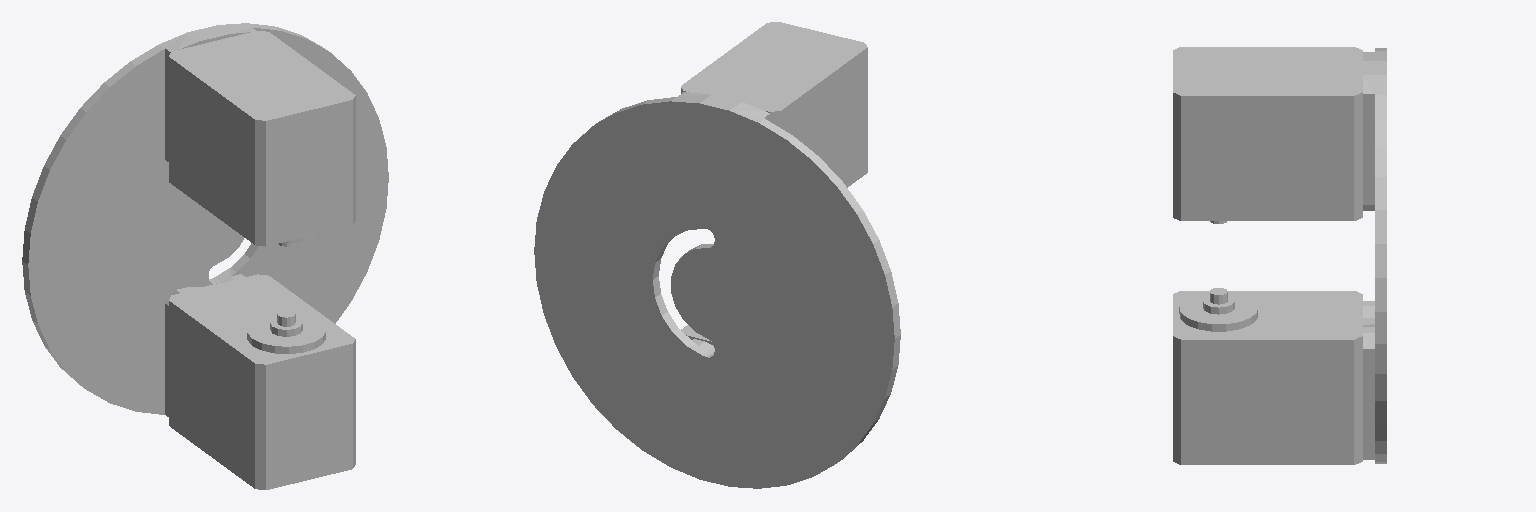
File: shoulder_link.obj
The picture shows the model from 3 angles: view 1: azimuth 30°, elevation 25°; view 2: azimuth 150°, elevation 25°; view 3: azimuth 270°, elevation 25°; orthographic projection.
Size of the model in its own units: 0.1022 by 0.1018 by 0.0525.